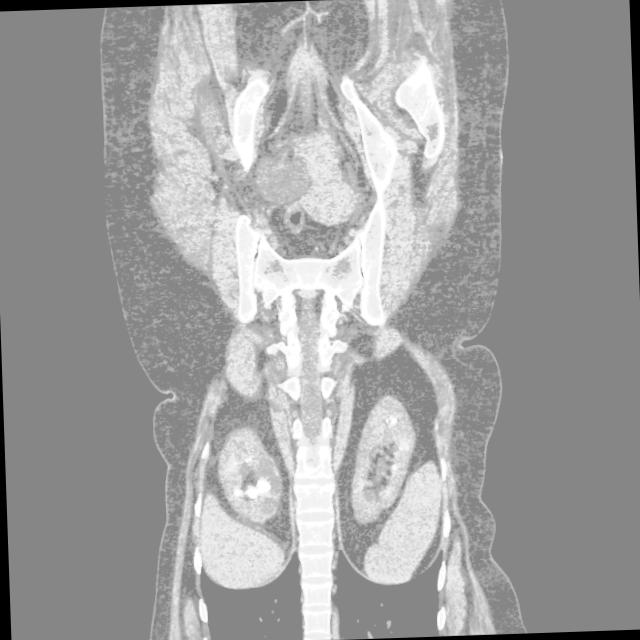STONE: (183, 364, 457, 532)
